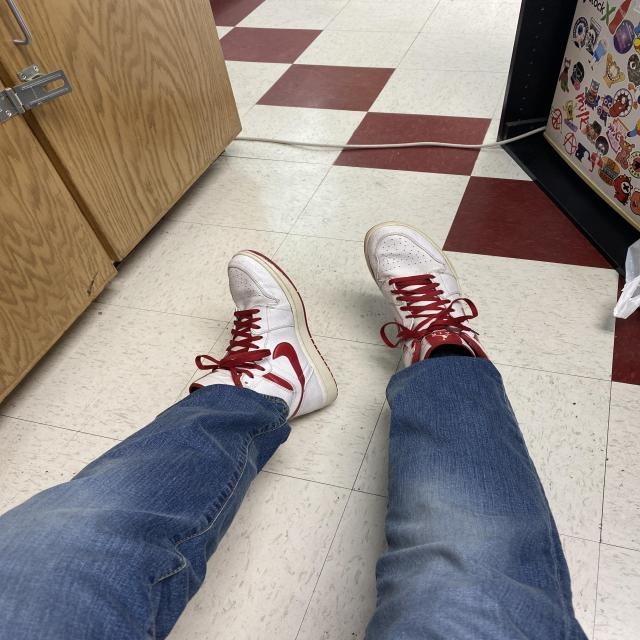shoe: (189, 248, 341, 424), (360, 219, 492, 364)
